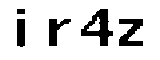4: (75, 6, 115, 48)
i: (9, 4, 34, 52)
r: (42, 14, 72, 51)
z: (117, 16, 145, 51)
